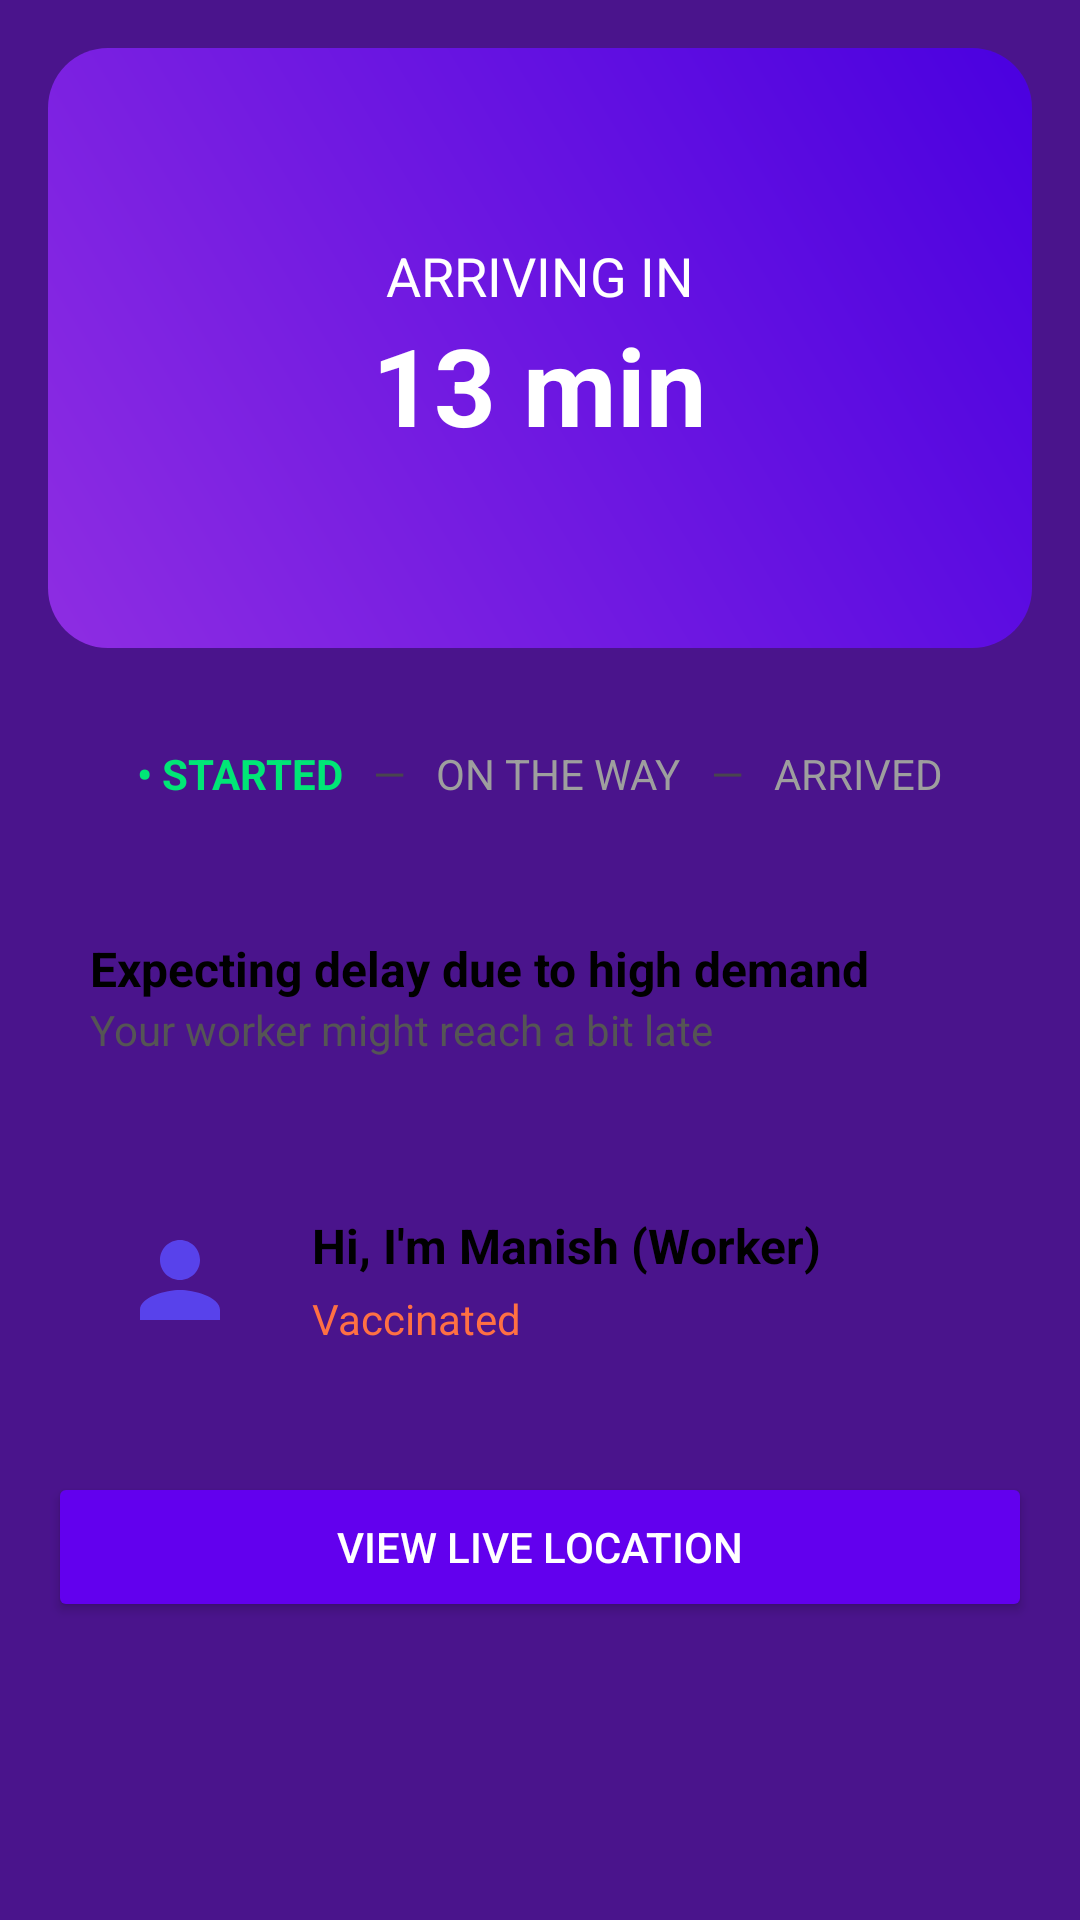

Screen size 1080×1920. Icon name, then its center in pixels as (x,y):
person: (180,1280)
